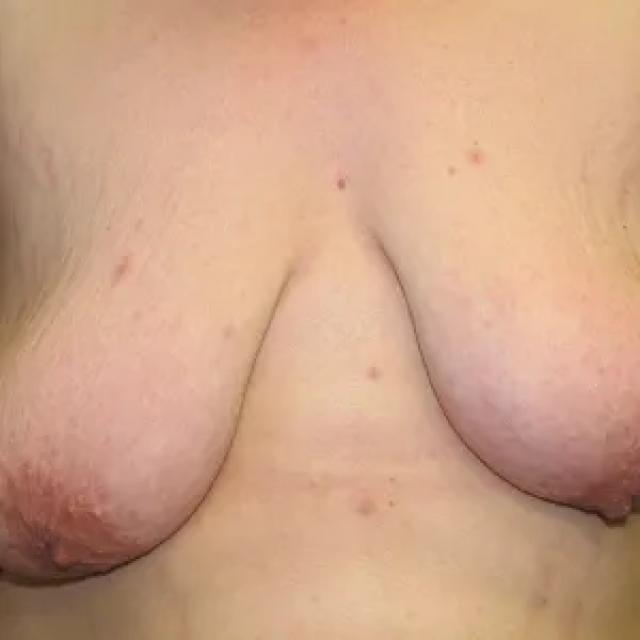Seno ileso: (1, 137, 324, 614), (342, 78, 640, 560)
